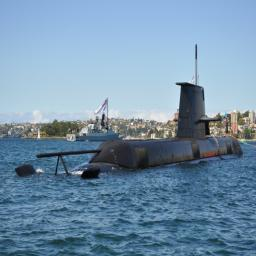submarine: (35, 84, 256, 180)
